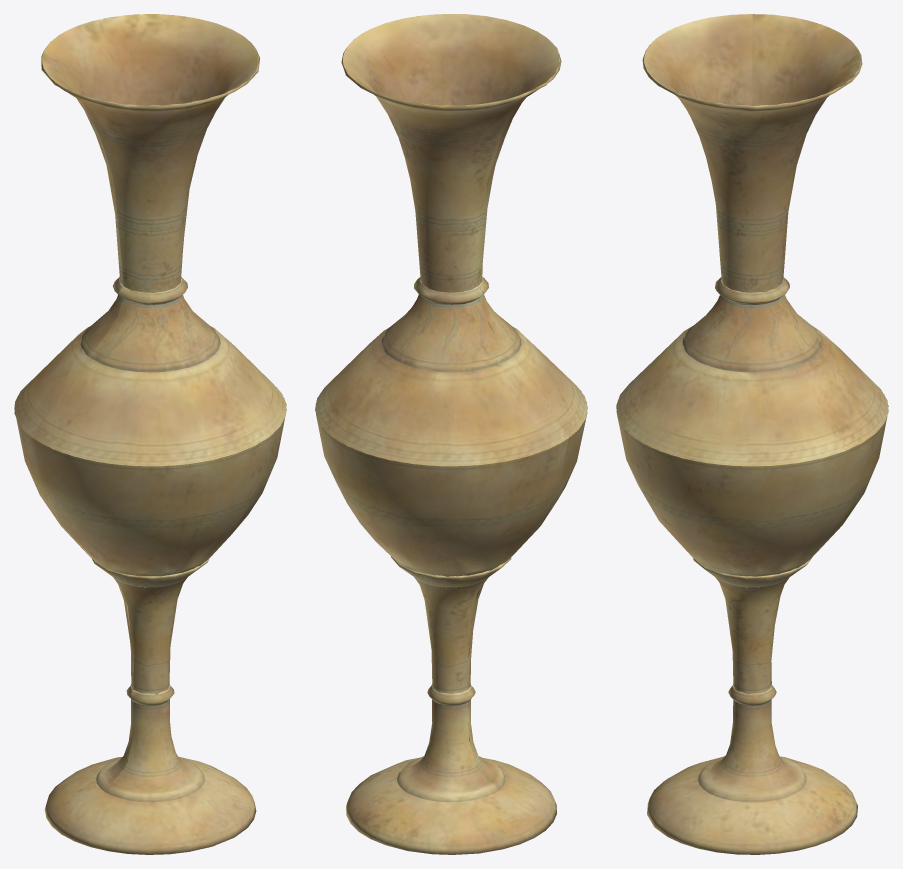
Rendered from brass_vase_01.glb.
3 renders of one model, left to right at view 1: azimuth 30°, elevation 25°; view 2: azimuth 150°, elevation 25°; view 3: azimuth 270°, elevation 25°, orthographic.
Parts seen in each view (by area): view 1: brass_vase_01; view 2: brass_vase_01; view 3: brass_vase_01.
Part boxes in pixels (bbox=[...]): brass_vase_01: bbox=[14, 14, 286, 854]; brass_vase_01: bbox=[315, 14, 587, 854]; brass_vase_01: bbox=[616, 14, 888, 854].
Size of the model in its own units: 0.0856 by 0.26 by 0.0856.
1 material, 1 textured.
